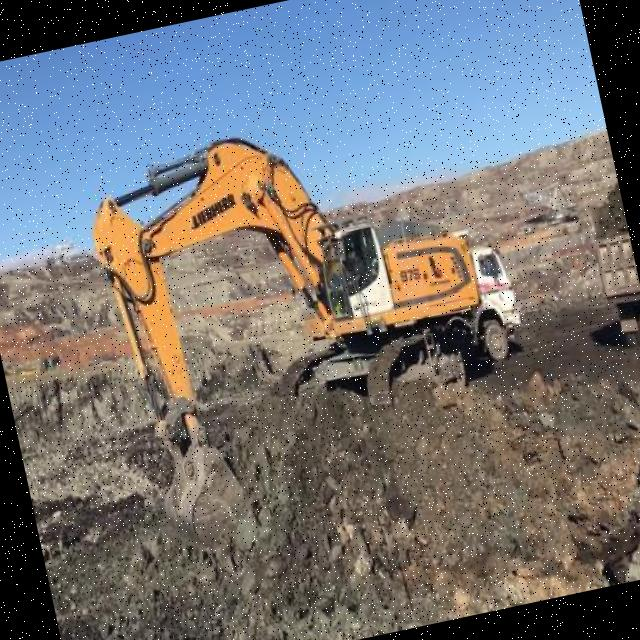Dump Truck: (585, 192, 640, 357), (464, 231, 527, 365)
Excavator: (76, 87, 526, 575)
